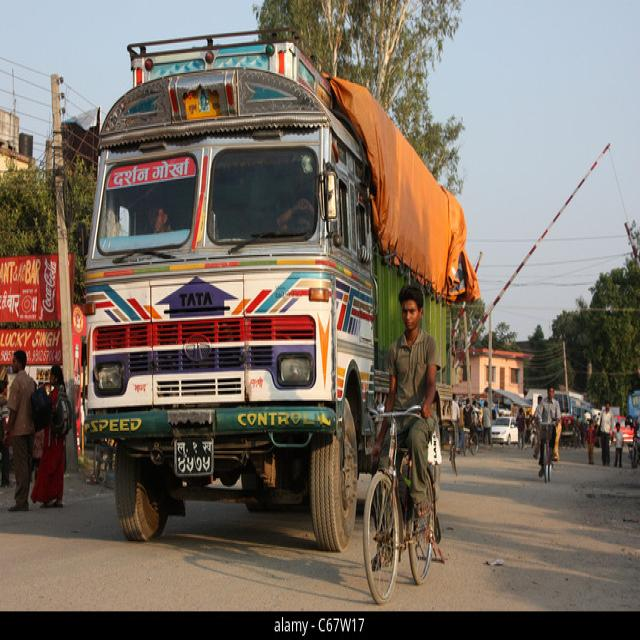truck: (85, 38, 480, 549)
